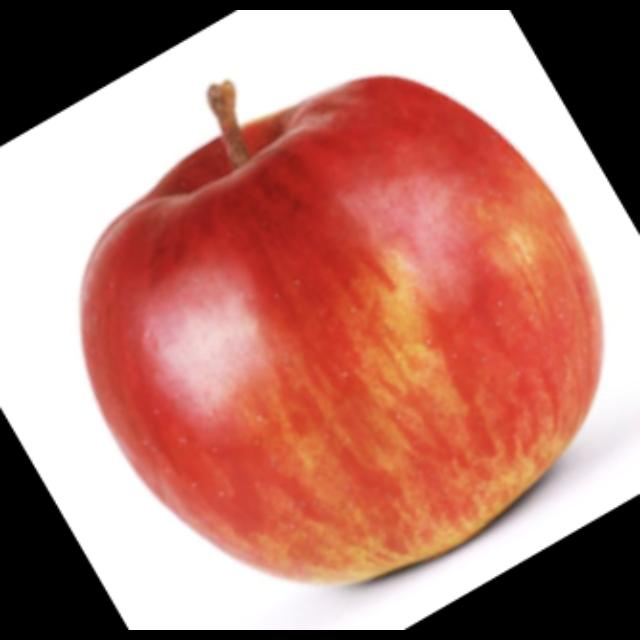Apel Segar: (78, 73, 606, 589)
